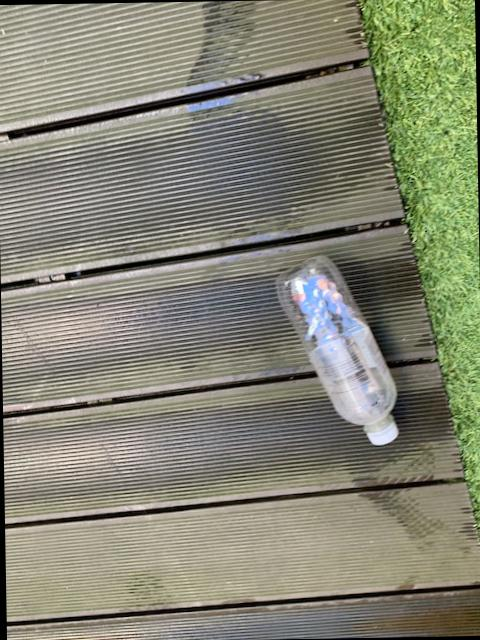plastic: (277, 257, 398, 446)
